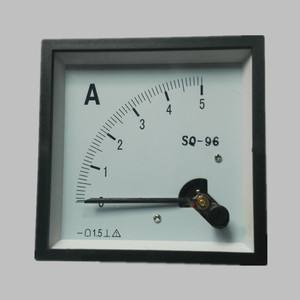pointer: (46, 47, 254, 252)
